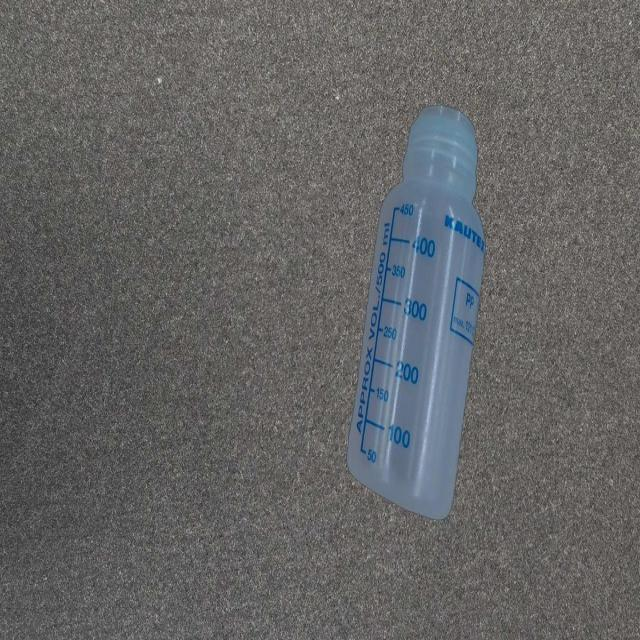bottle: (346, 100, 490, 522)
